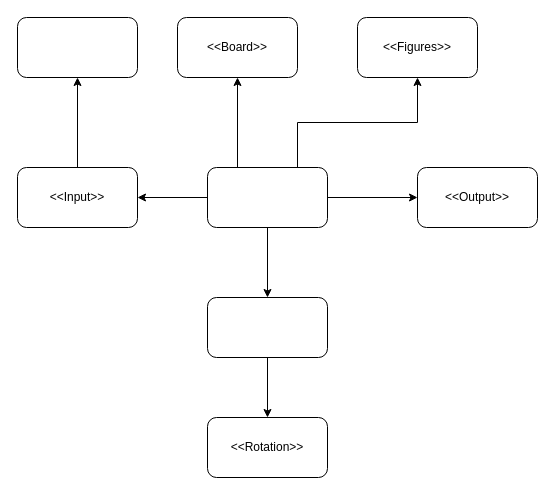
The diagram is 555 pixels wide and 495 high, and some of its shapes have lost their labels. Here are the shapes that lost their labels. From the top down, the centre of each, then its label:
At (77,47): "<<ValidateInput>>".
At (267,197): "Main".
At (267,327): "<<Rules>>".
